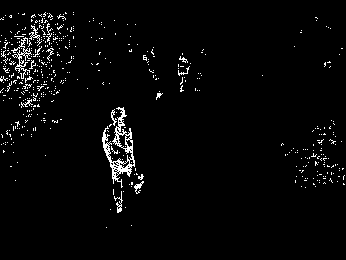person: (102, 105, 144, 214)
